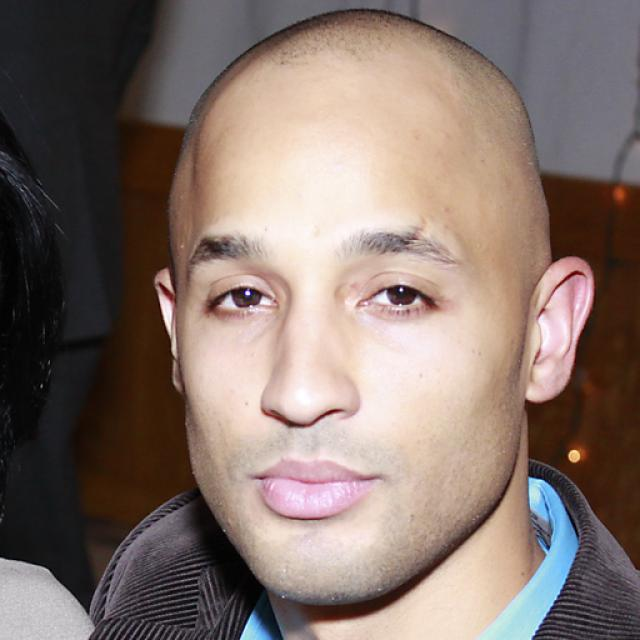neutral: (178, 72, 526, 608)
